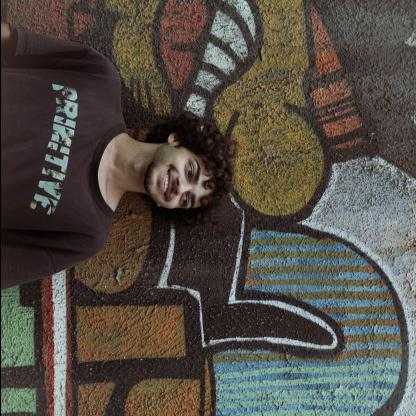Eye: (186, 158, 196, 180), (177, 194, 189, 210)
Mouth: (157, 165, 175, 200)
Nose: (172, 178, 188, 196)
